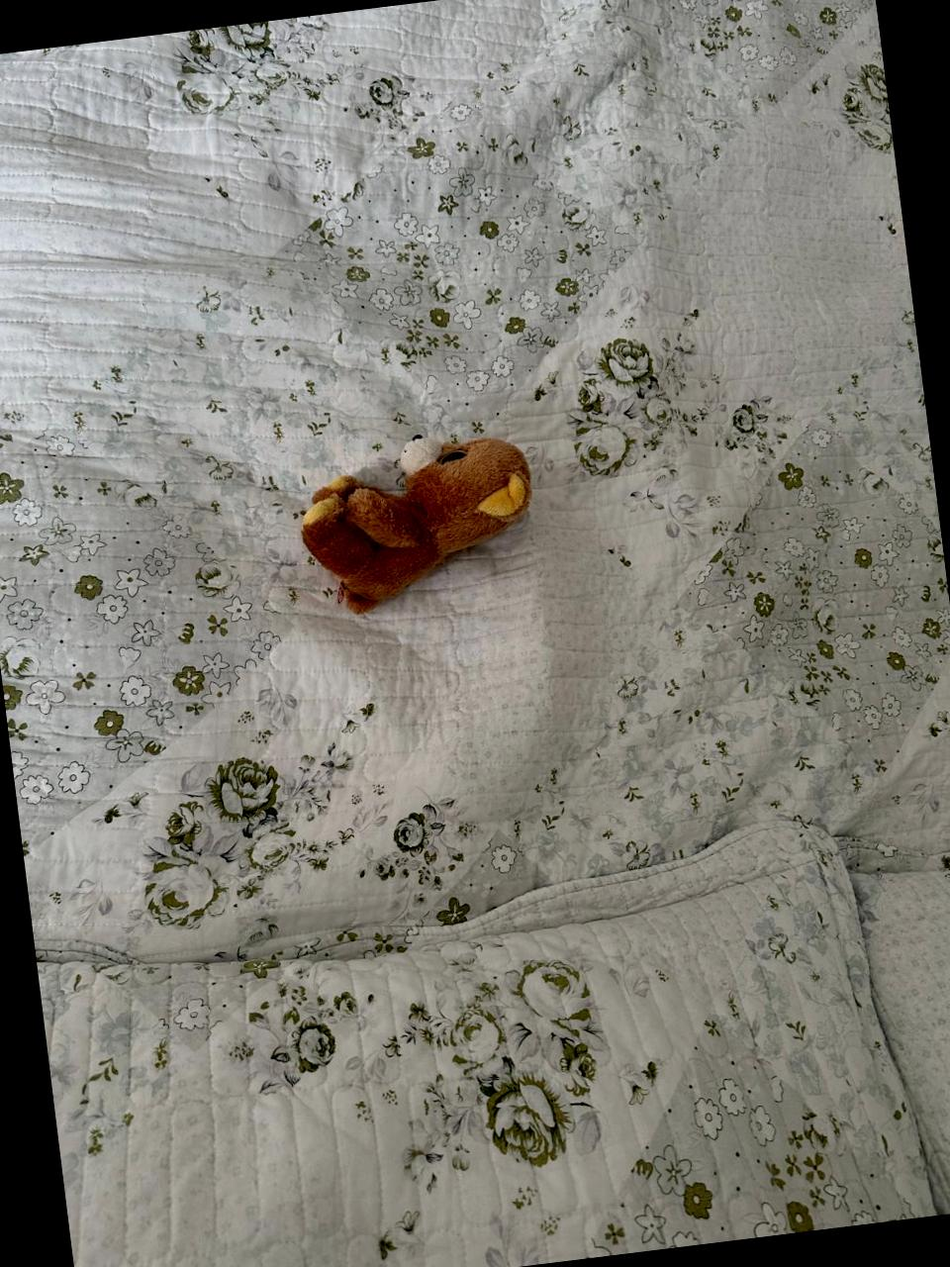peluche_sebastian: (287, 418, 549, 612)
